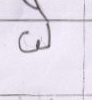ai_matra: (21, 0, 53, 19)
